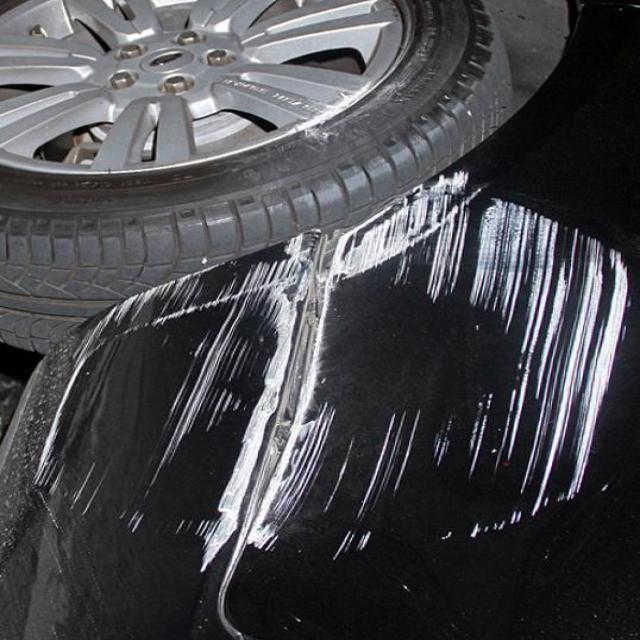scratch: (30, 160, 622, 610)
